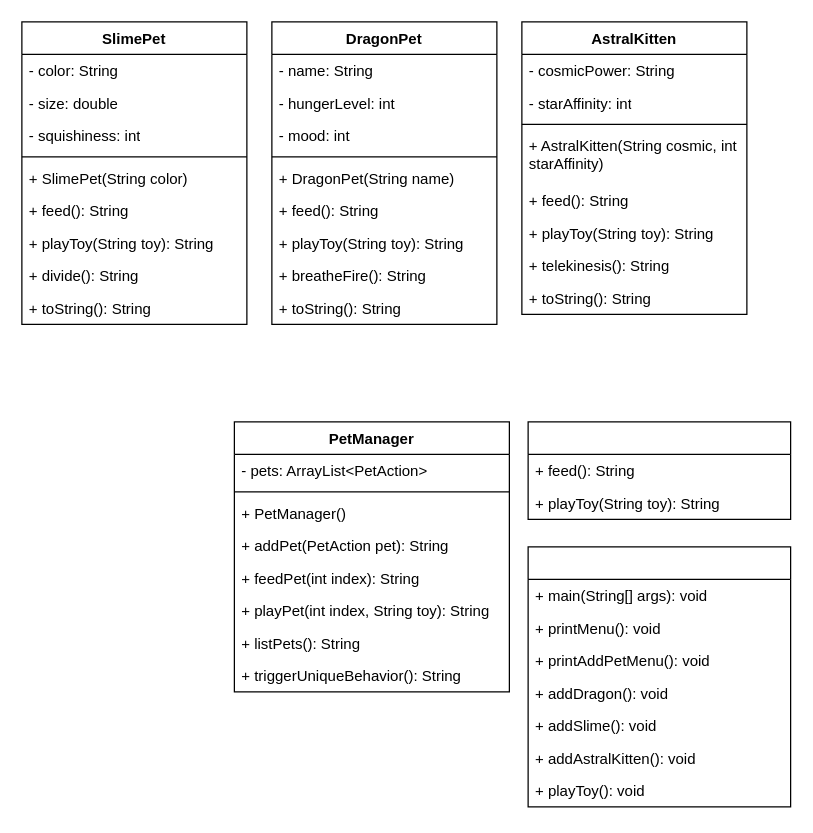
Image size: 813x833. Some labels were removed from this diagram. The box of each missing label's shape, as (x1, y1, x2, y2) in pixels:
CyberPetApp: (527, 546, 791, 807)
PetAction: (527, 421, 791, 519)
